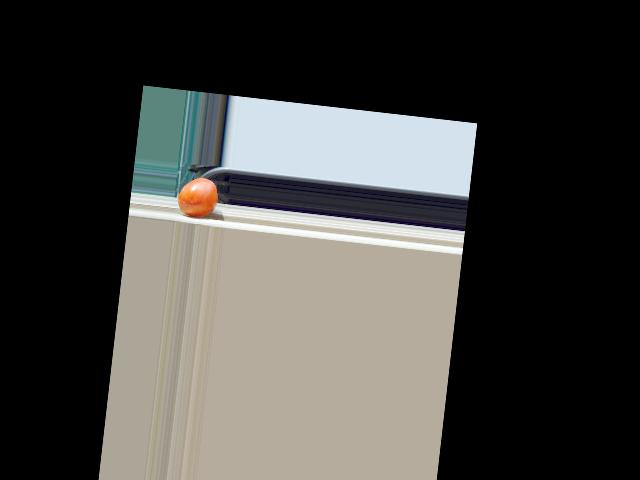tomato: (176, 175, 220, 218)
